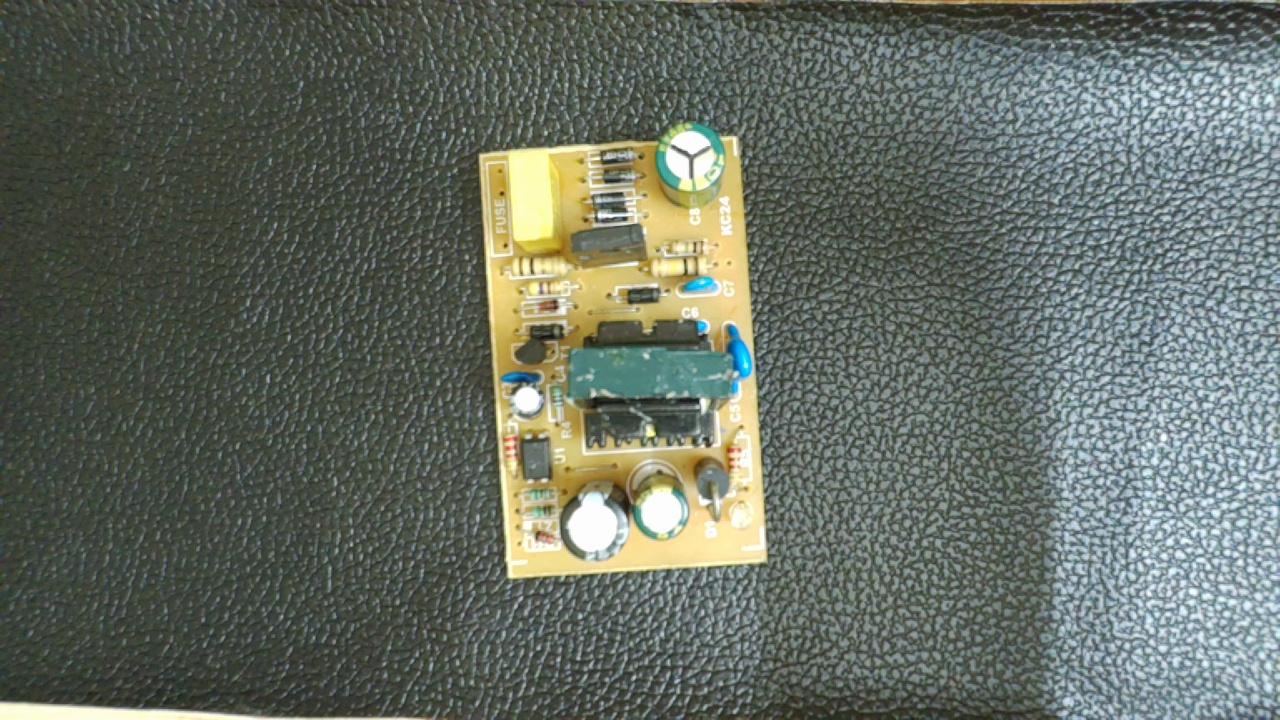hv_capacitor: (651, 119, 726, 207)
mov: (717, 321, 753, 396)
optocoupler: (515, 429, 557, 489)
